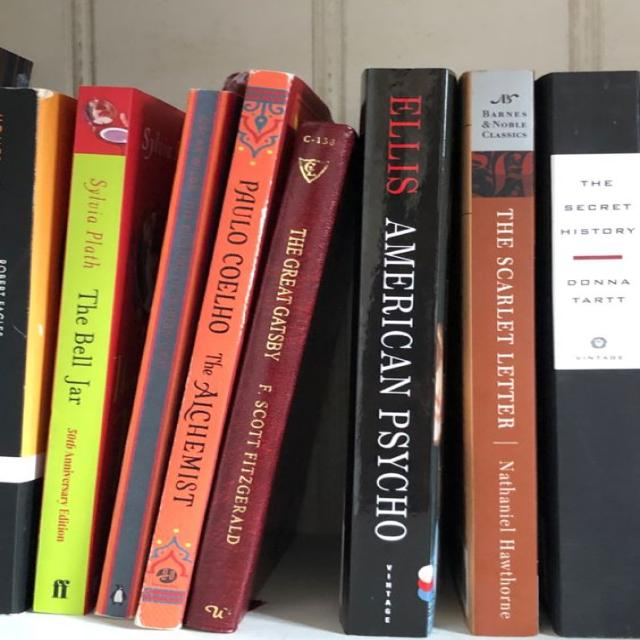book: (132, 70, 293, 631), (185, 123, 352, 634), (96, 88, 229, 621), (344, 65, 450, 635), (30, 85, 132, 613), (554, 70, 639, 638), (465, 70, 537, 634)
